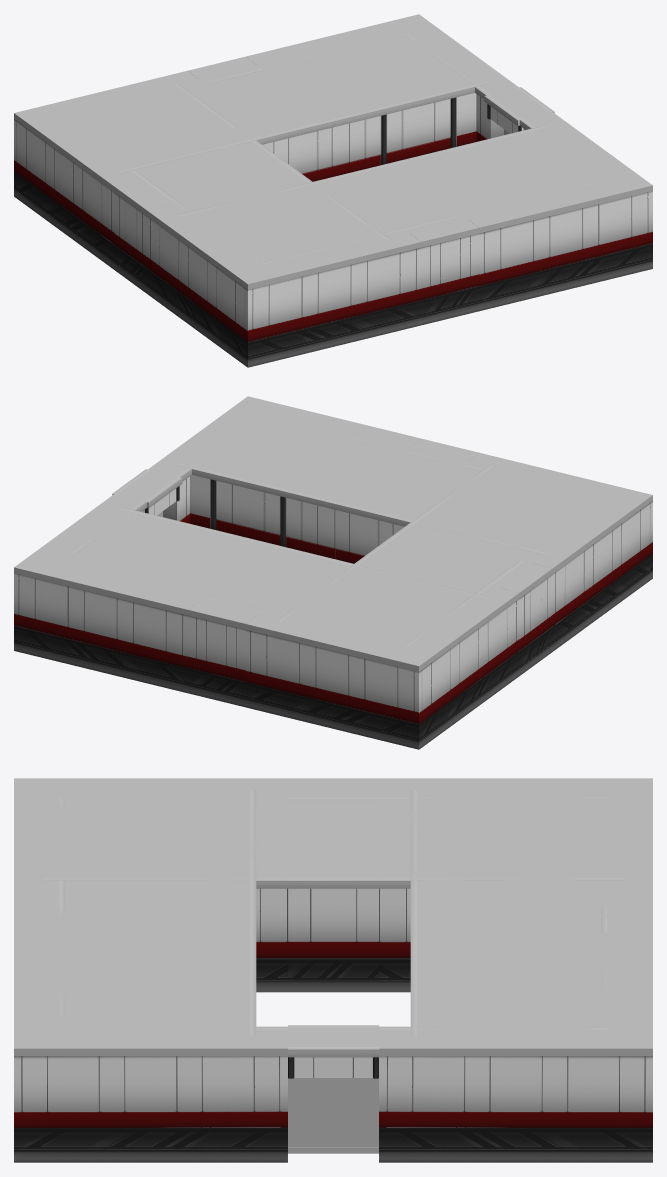
The model's file is Room11.FBX.
3 views of the same model, one above another, from view 1: azimuth 30°, elevation 25°; view 2: azimuth 150°, elevation 25°; view 3: azimuth 270°, elevation 25° (orthographic). The views are drawn at different scales.
Visible parts, largest first — view 1: Wall0 (×8), Box496, Box501, Box503, Wall1 (×3), Door1; view 2: Wall0 (×8), Box501, Box496, Box503, Wall1 (×3), Door1; view 3: Wall0 (×8), Box496, Box501, Box503, Door (×2), Wall1 (×3), Door1.
Part boxes in pixels (x1=…): Wall0 (×8): x1=14, y1=14, x2=652, y2=367; Box496: x1=44, y1=27, x2=489, y2=241; Box501: x1=178, y1=125, x2=622, y2=271; Box503: x1=45, y1=83, x2=390, y2=340; Wall1 (×3): x1=114, y1=56, x2=479, y2=324; Door1: x1=484, y1=87, x2=554, y2=133; Wall0 (×8): x1=14, y1=396, x2=652, y2=749; Box501: x1=177, y1=409, x2=622, y2=623; Box496: x1=44, y1=507, x2=488, y2=652; Box503: x1=276, y1=465, x2=621, y2=722; Wall1 (×3): x1=187, y1=438, x2=552, y2=706; Door1: x1=112, y1=469, x2=182, y2=515; Wall0 (×8): x1=14, y1=778, x2=652, y2=1162; Box496: x1=410, y1=790, x2=621, y2=1036; Box501: x1=45, y1=790, x2=256, y2=1036; Box503: x1=42, y1=791, x2=624, y2=992; Door (×2): x1=288, y1=1078, x2=378, y2=1153; Wall1 (×3): x1=14, y1=778, x2=652, y2=932; Door1: x1=288, y1=1025, x2=379, y2=1078.
Bounding box in the file's own units: 141 × 27.57 × 140.
